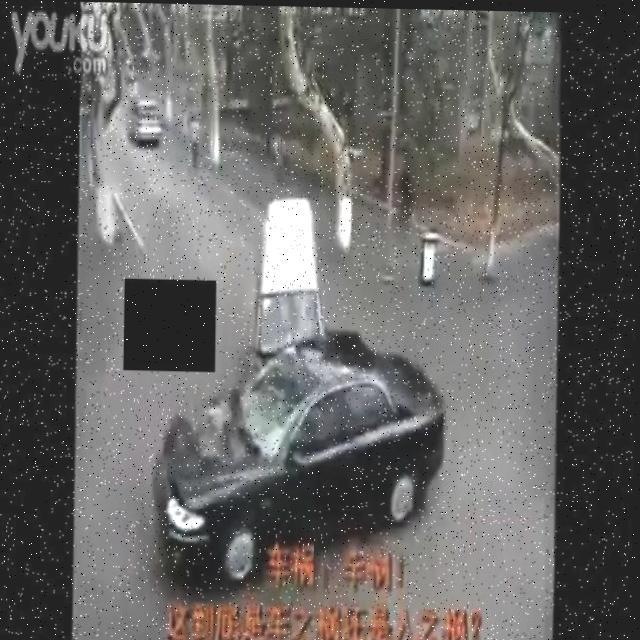multiple_accident: (152, 157, 436, 597)
